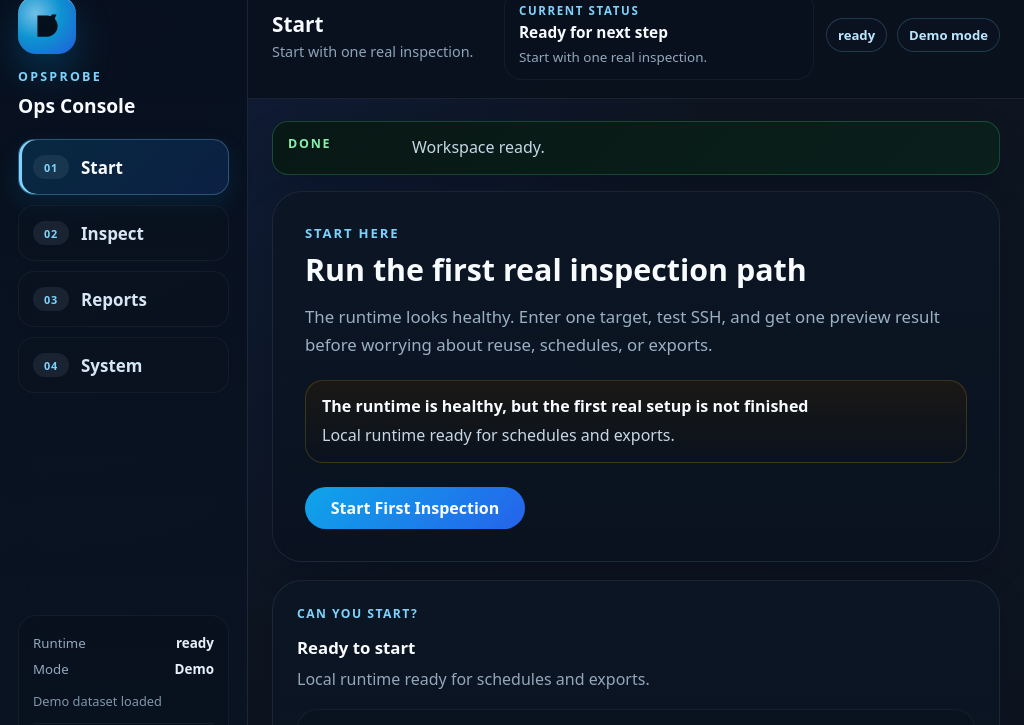
Test: desktop app shell › shows an explicit demo-mode button state in setup workspace
Click the button "04 System". click: (124, 365)
box: [18,337,229,393]
(page scrolled)
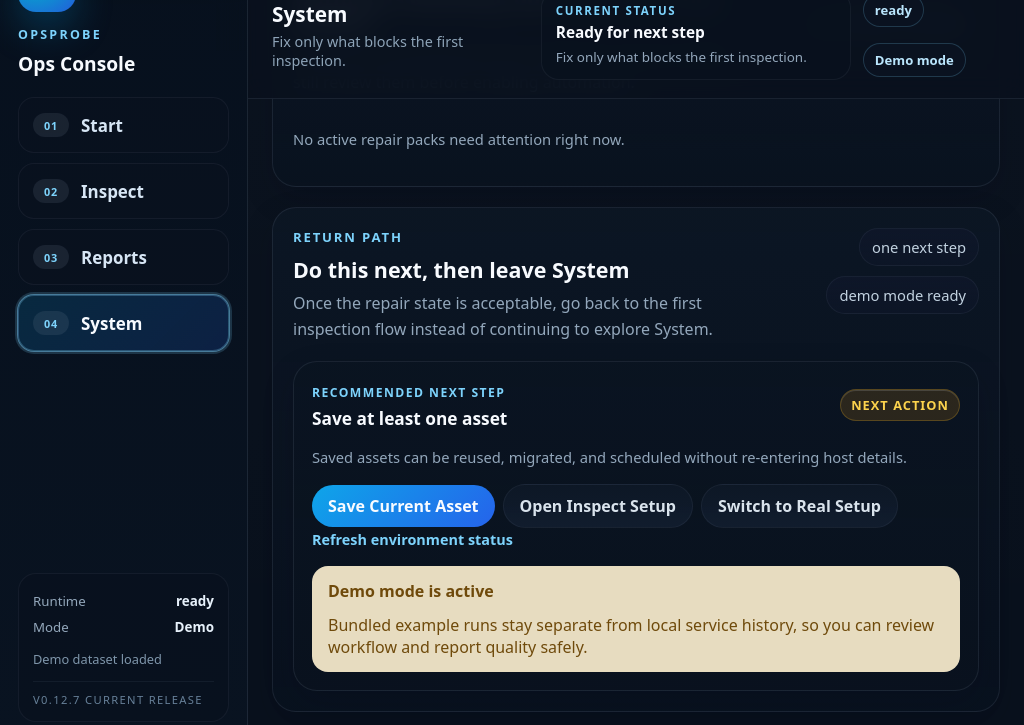
Check: the text "Demo mode is active" is shown, box [328,580,494,602]
Check: the button "Switch to Real Setup" is shown, box [701,484,898,528]
